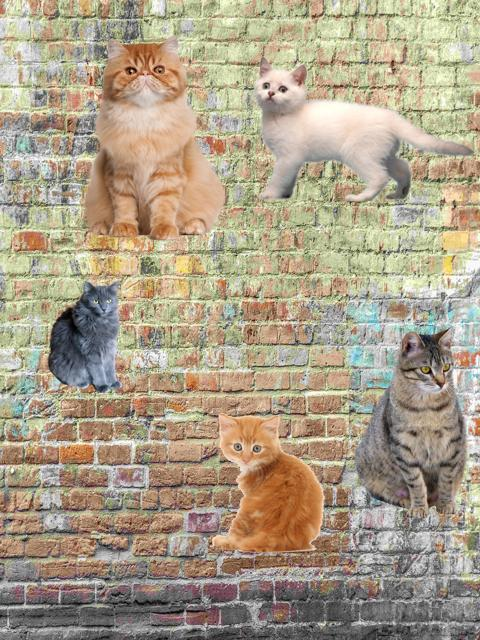cat: (240, 55, 471, 199), (78, 34, 231, 240), (350, 322, 472, 522), (208, 411, 324, 553), (48, 281, 122, 393)
